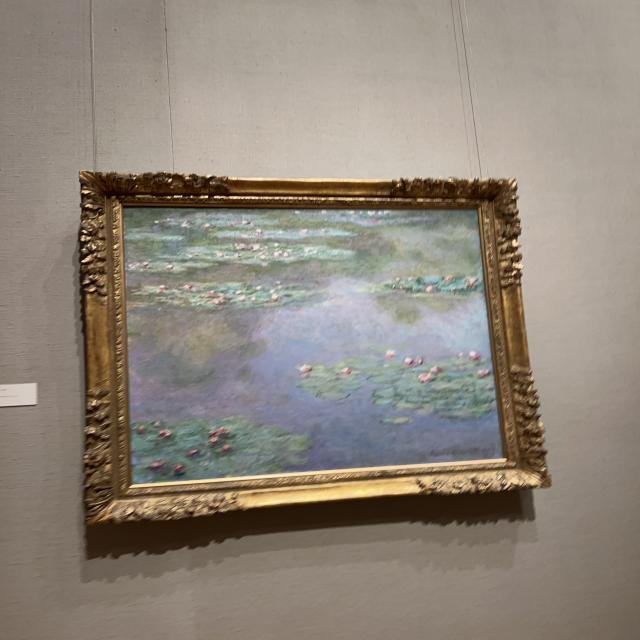lilies: (125, 210, 501, 481)
